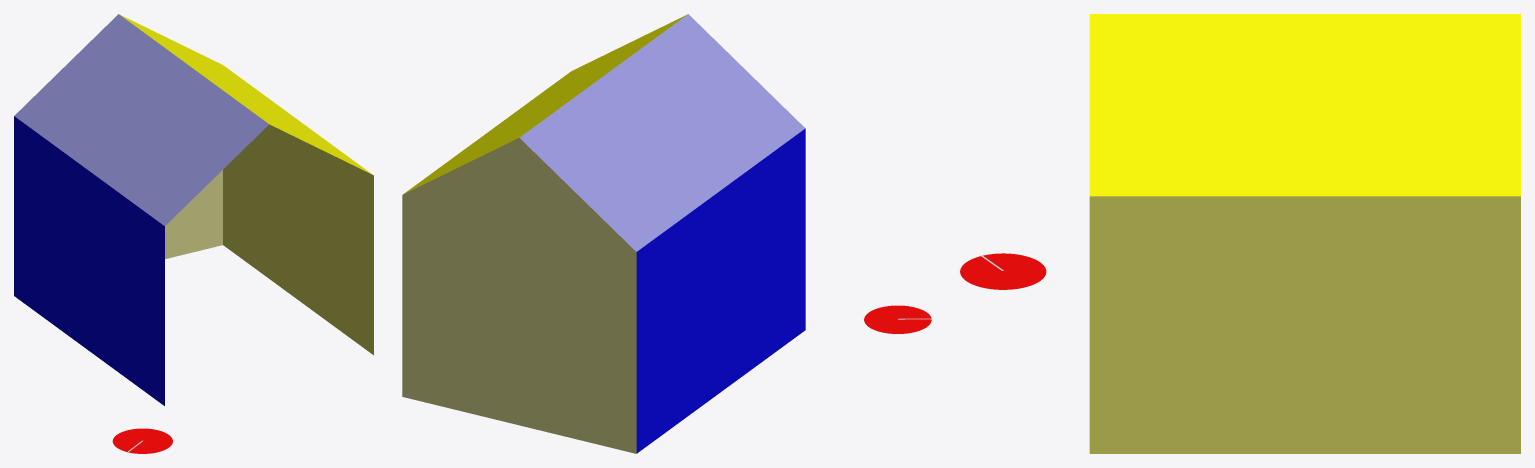
Rendered from result.glb.
The picture shows the model from 3 angles, left to right: view 1: azimuth 30°, elevation 25°; view 2: azimuth 150°, elevation 25°; view 3: azimuth 270°, elevation 25°; orthographic projection. The views are drawn at different scales.
Parts seen in each view (by area): view 1: d02a9854-bba3-47bb-b2c3-d1b0ee01021f__undefined, cc34e9f9-0adb-4123-9e3e-5d64efdff451__undefined, 3dfaff76-cdee-49c0-92e0-e89f557d2329__undefined, 9b0653c6-3a9d-4a97-8c09-8a6ef6f47c87__undefined, 9bac42dc-e28a-4f71-8468-13e3cba3a540__undefined, d417484e-70be-4671-b6ed-35003833e1f3__Circle; view 2: 9bac42dc-e28a-4f71-8468-13e3cba3a540__undefined, d02a9854-bba3-47bb-b2c3-d1b0ee01021f__undefined, cc34e9f9-0adb-4123-9e3e-5d64efdff451__undefined, 9b0653c6-3a9d-4a97-8c09-8a6ef6f47c87__undefined, d417484e-70be-4671-b6ed-35003833e1f3__Circle; view 3: 3dfaff76-cdee-49c0-92e0-e89f557d2329__undefined, 9b0653c6-3a9d-4a97-8c09-8a6ef6f47c87__undefined, d417484e-70be-4671-b6ed-35003833e1f3__Circle.
Boxes of the visible parts, x1=… form: d02a9854-bba3-47bb-b2c3-d1b0ee01021f__undefined: x1=14, y1=116, x2=164, y2=405; cc34e9f9-0adb-4123-9e3e-5d64efdff451__undefined: x1=14, y1=14, x2=268, y2=225; 3dfaff76-cdee-49c0-92e0-e89f557d2329__undefined: x1=223, y1=124, x2=373, y2=355; 9b0653c6-3a9d-4a97-8c09-8a6ef6f47c87__undefined: x1=119, y1=14, x2=372, y2=174; 9bac42dc-e28a-4f71-8468-13e3cba3a540__undefined: x1=165, y1=170, x2=222, y2=258; d417484e-70be-4671-b6ed-35003833e1f3__Circle: x1=112, y1=428, x2=172, y2=453; 9bac42dc-e28a-4f71-8468-13e3cba3a540__undefined: x1=402, y1=138, x2=636, y2=453; d02a9854-bba3-47bb-b2c3-d1b0ee01021f__undefined: x1=636, y1=128, x2=805, y2=453; cc34e9f9-0adb-4123-9e3e-5d64efdff451__undefined: x1=519, y1=14, x2=805, y2=251; 9b0653c6-3a9d-4a97-8c09-8a6ef6f47c87__undefined: x1=403, y1=14, x2=687, y2=194; d417484e-70be-4671-b6ed-35003833e1f3__Circle: x1=864, y1=305, x2=931, y2=333; 3dfaff76-cdee-49c0-92e0-e89f557d2329__undefined: x1=1089, y1=196, x2=1520, y2=453; 9b0653c6-3a9d-4a97-8c09-8a6ef6f47c87__undefined: x1=1089, y1=14, x2=1520, y2=196; d417484e-70be-4671-b6ed-35003833e1f3__Circle: x1=960, y1=253, x2=1046, y2=289.
Size of the model in its own units: 550 by 469 by 650.
